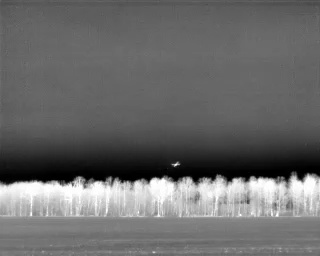DRONE: (169, 158, 183, 170)
